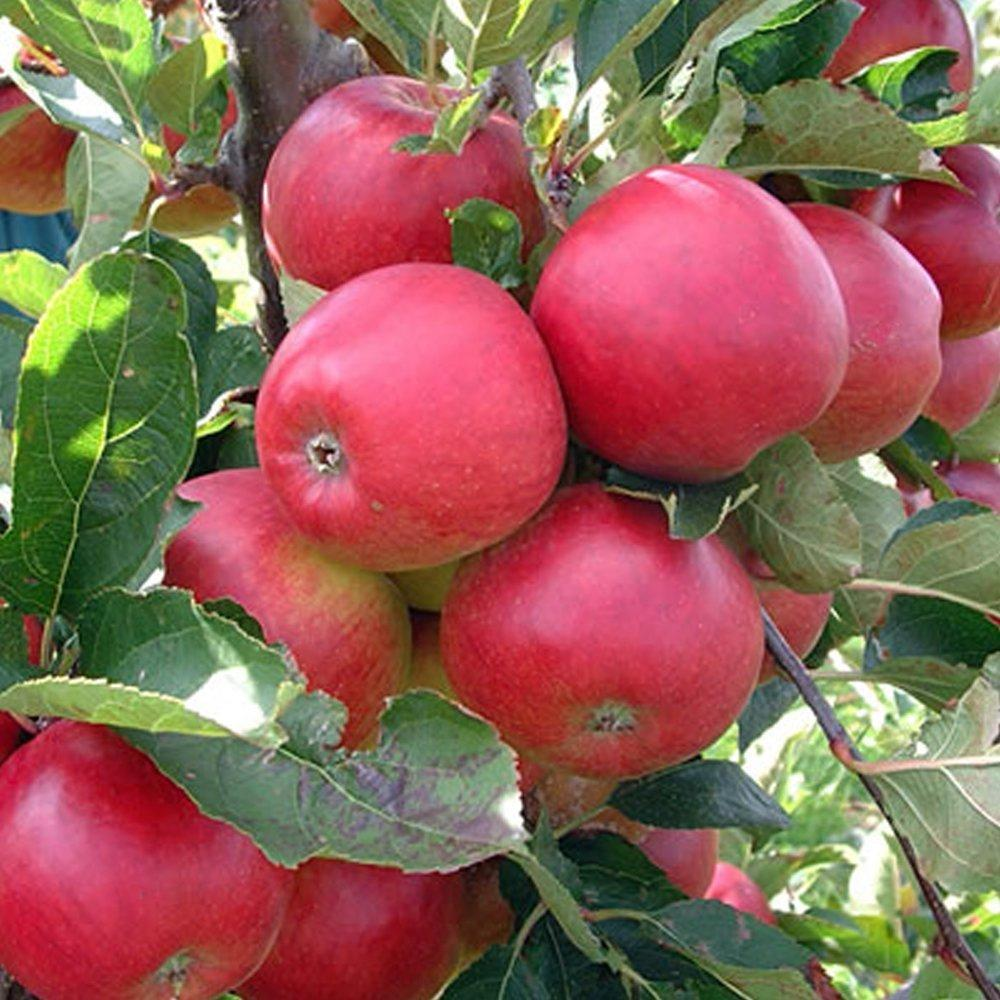apple: (531, 179, 880, 494), (248, 273, 563, 602), (451, 494, 760, 775), (9, 718, 288, 1000), (154, 473, 411, 757), (257, 65, 551, 304), (859, 147, 1000, 332)
